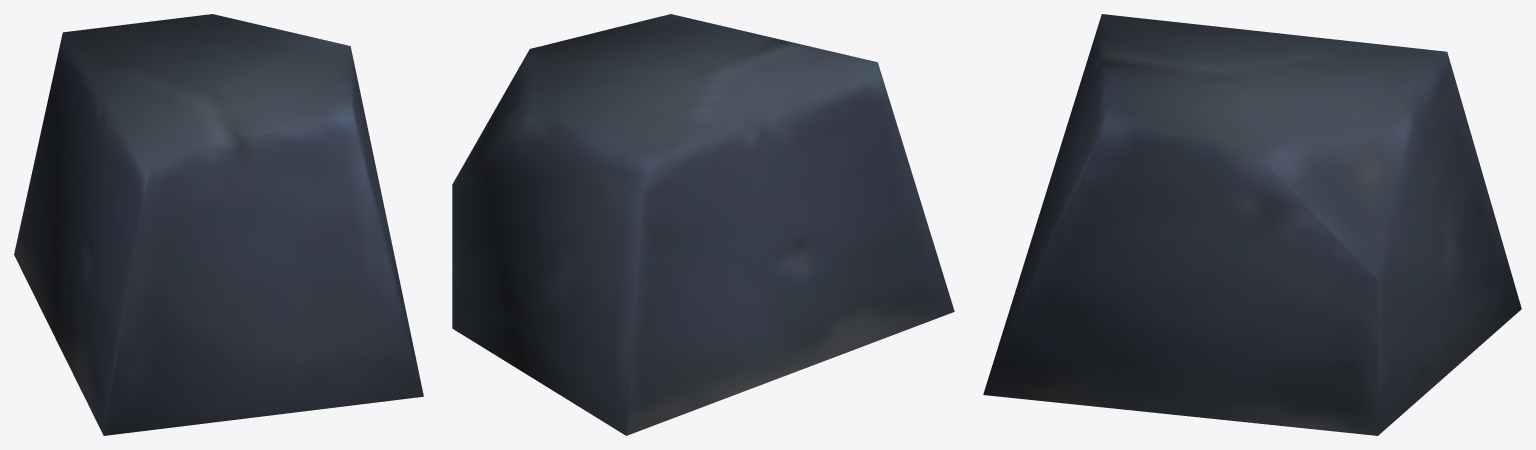
The model's file is Area_04_40.fbx.
3 renders of one model, left to right at view 1: azimuth 30°, elevation 25°; view 2: azimuth 150°, elevation 25°; view 3: azimuth 270°, elevation 25°, orthographic. The views are drawn at different scales.
Visible parts, largest first — view 1: Area_04_40; view 2: Area_04_40; view 3: Area_04_40.
Boxes of the visible parts, left/top/right/bottom form: Area_04_40: left=14, top=14, right=423, bottom=435; Area_04_40: left=452, top=14, right=954, bottom=435; Area_04_40: left=983, top=14, right=1521, bottom=435.
Bounding box in the file's own units: 159 × 103 × 190.
